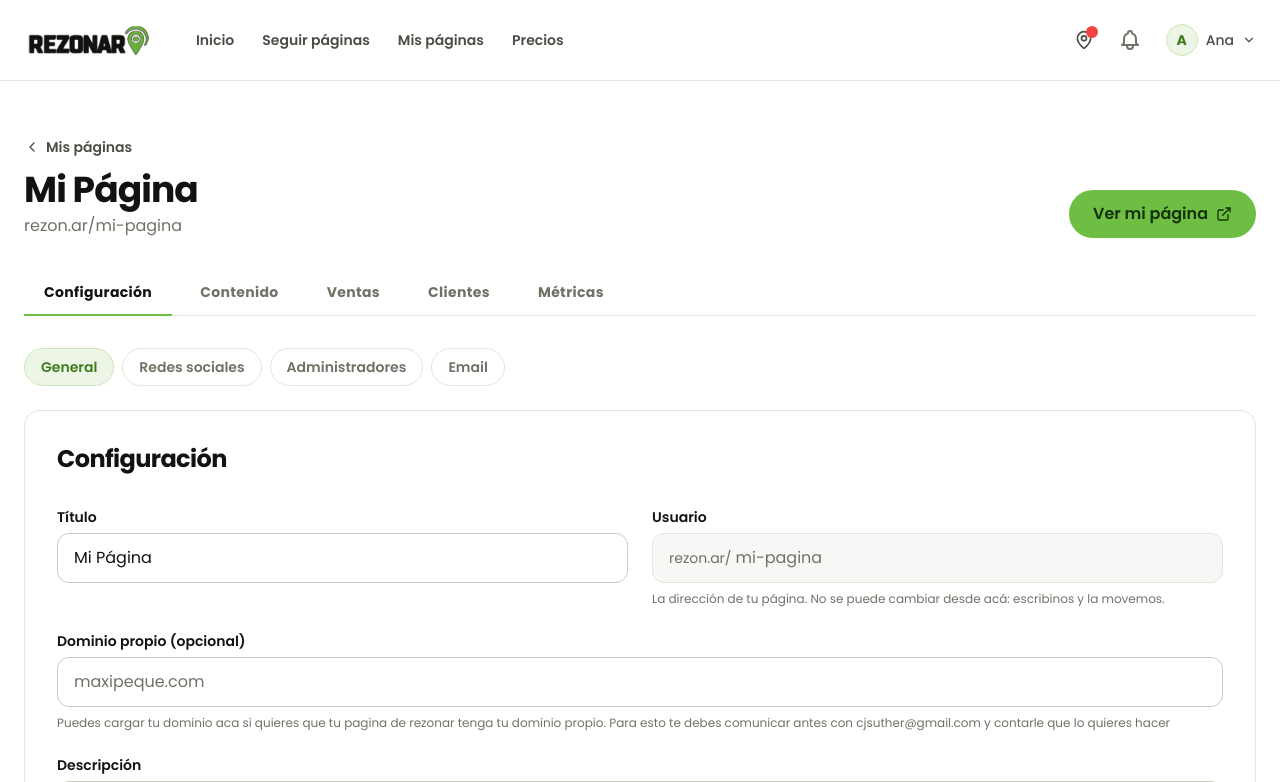
Test: PageEditor › carga › cambia de sección al tocar el submenú
Expected: the heading "Mi Página" is shown, [24,170,198,210]
Click the button "Contenido" at (239,293), box [180,270,299,316]
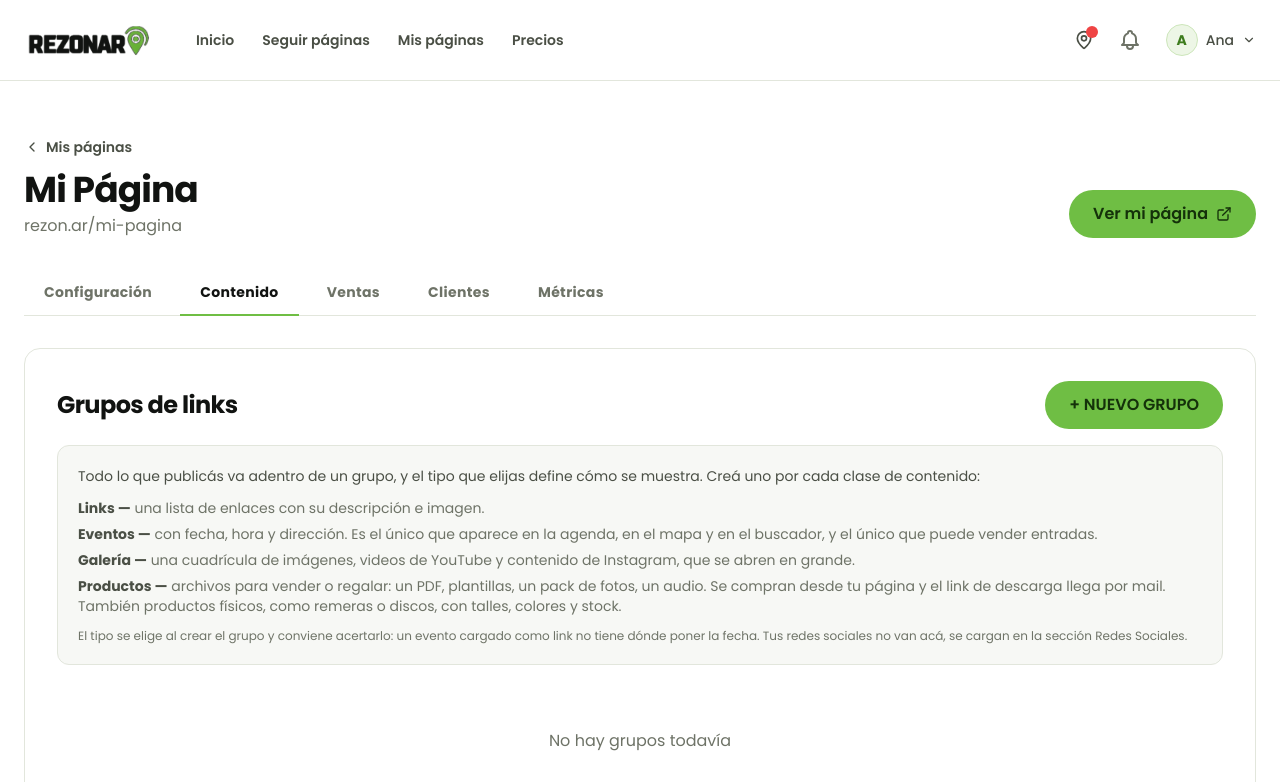
Expected: the heading "Grupos de links" is shown, [57,389,238,421]
